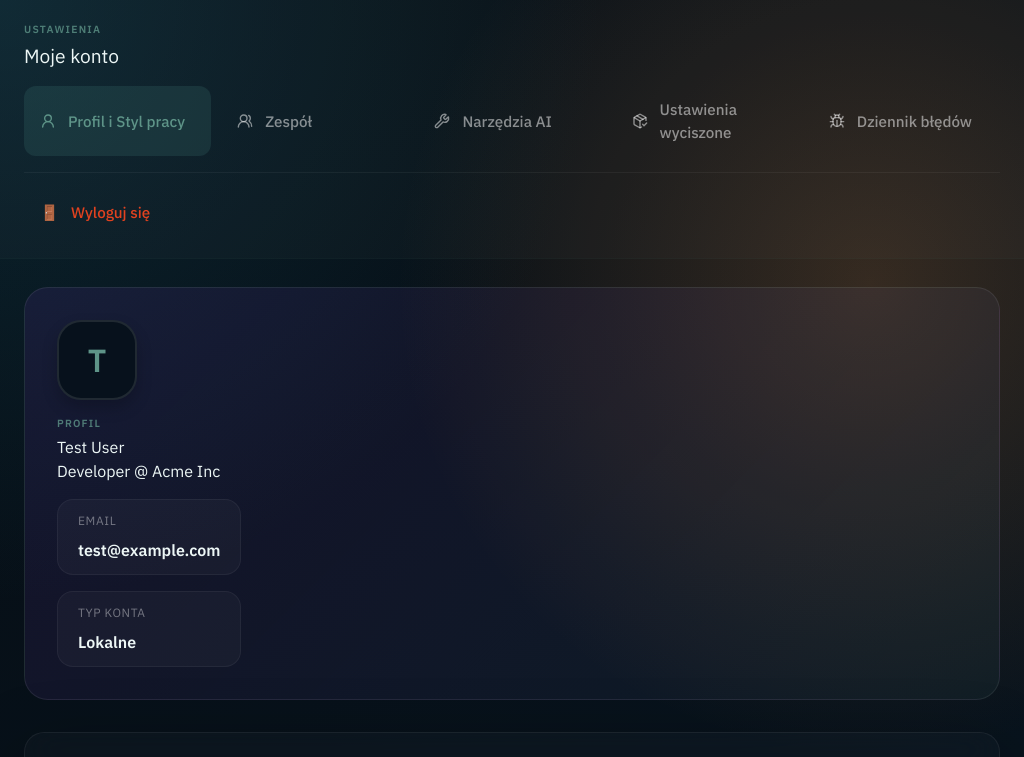
Test: ProfileTab › Vocabulary Section › displays existing vocabulary terms with remove buttons
Click the button "Narzędzia AI" at point(512, 121), box x1=418 y1=86 x2=606 y2=156
(page scrolled)
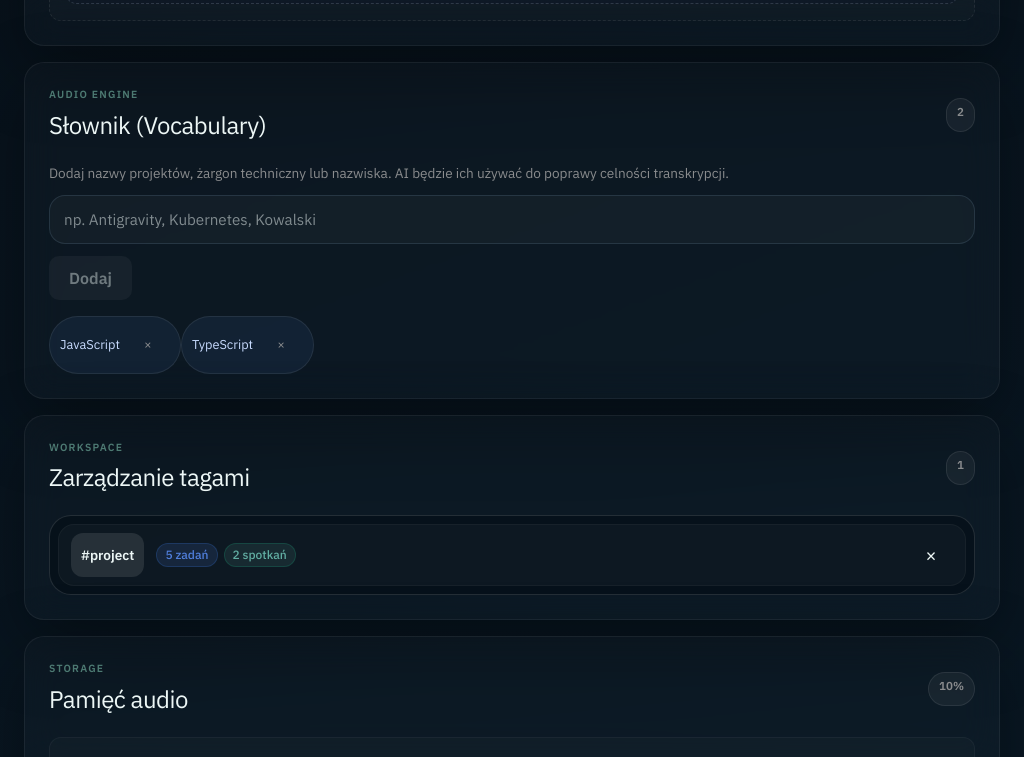
Expected: the text "JavaScript" is shown, x1=60 y1=336 x2=120 y2=353
Expected: the text "TypeScript" is shown, x1=192 y1=336 x2=253 y2=353
